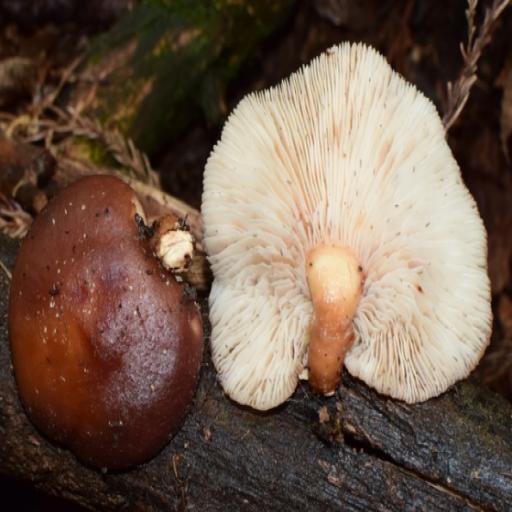Shiitake Mushroom: (191, 43, 489, 402), (0, 171, 223, 476)
